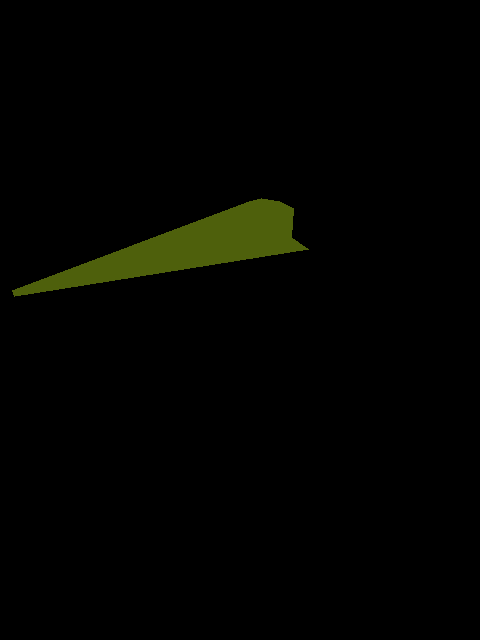Train: (12, 198, 308, 296)
